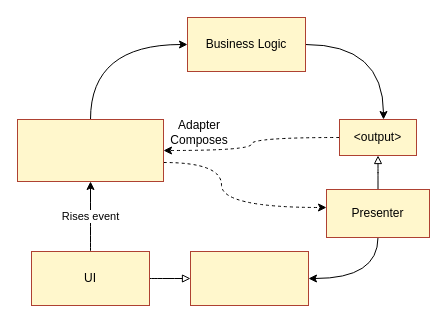
This 447x323 diagram has some shape labels left out. The shapes that lost their labels are listed below. From the top down, each one's centre as x and y in pixels, then its label:
the point at 90,150: Adapter Catches and composes functionality
the point at 249,278: <PresenterView>
